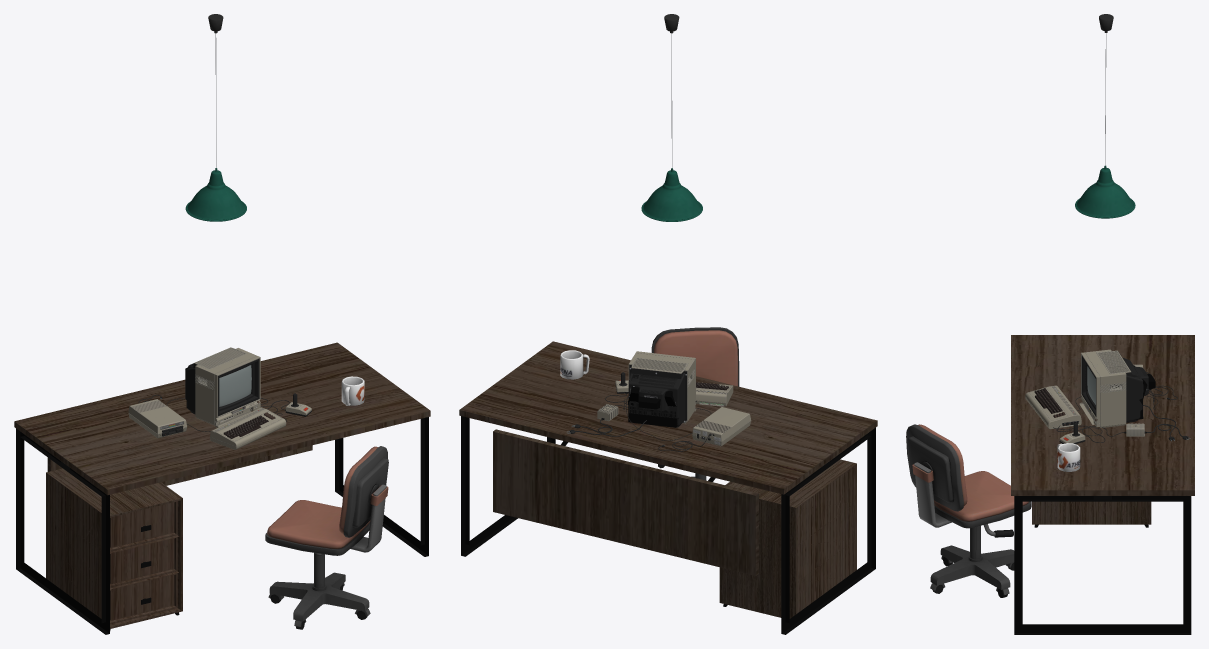
3 views of the same model, side by side, from view 1: azimuth 30°, elevation 25°; view 2: azimuth 150°, elevation 25°; view 3: azimuth 270°, elevation 25° (orthographic).
Parts seen in each view (by area): view 1: Table, Drawer, Object_6 (×2), Cube001, Object_18, Line001_INSTALOD_INSTALOD_lamp1_0, Object_8, Object_17, Object_19, Object_10; view 2: Table, Drawer, Object_6 (×2), Object_17, Object_8, Line001_INSTALOD_INSTALOD_lamp1_0, Object_14, Object_18, Object_10; view 3: Table, Object_6 (×2), Drawer, Object_18, Line001_INSTALOD_INSTALOD_lamp1_0, Object_17, Object_14, Object_10, Object_8, Object_5.
Boxes of the visible parts, <box> form: Table: <box>14,342,430,495</box>; Drawer: <box>16,417,428,634</box>; Object_6 (×2): <box>210,407,388,629</box>; Cube001: <box>110,501,179,625</box>; Object_18: <box>194,347,260,427</box>; Line001_INSTALOD_INSTALOD_lamp1_0: <box>185,168,246,221</box>; Object_8: <box>128,393,311,438</box>; Object_17: <box>185,359,259,420</box>; Object_19: <box>219,365,251,406</box>; Object_10: <box>341,376,364,405</box>; Table: <box>459,341,877,575</box>; Drawer: <box>461,416,875,634</box>; Object_6 (×2): <box>651,327,739,480</box>; Object_17: <box>628,365,686,427</box>; Object_8: <box>597,372,751,446</box>; Line001_INSTALOD_INSTALOD_lamp1_0: <box>641,168,702,221</box>; Object_14: <box>575,379,711,451</box>; Object_18: <box>628,351,696,423</box>; Object_10: <box>560,350,589,379</box>; Table: <box>1011,335,1194,495</box>; Object_6 (×2): <box>906,385,1081,597</box>; Drawer: <box>1014,496,1191,634</box>; Object_18: <box>1079,349,1130,427</box>; Line001_INSTALOD_INSTALOD_lamp1_0: <box>1075,165,1135,218</box>; Object_17: <box>1081,351,1148,422</box>; Object_14: <box>1053,365,1182,442</box>; Object_10: <box>1057,443,1080,471</box>; Object_8: <box>1059,364,1146,444</box>; Object_5: <box>1034,388,1065,417</box>.
Bounding box in the file's own units: 24 × 39.34 × 18.83.
Materials: 19 (18 with a texture image).
